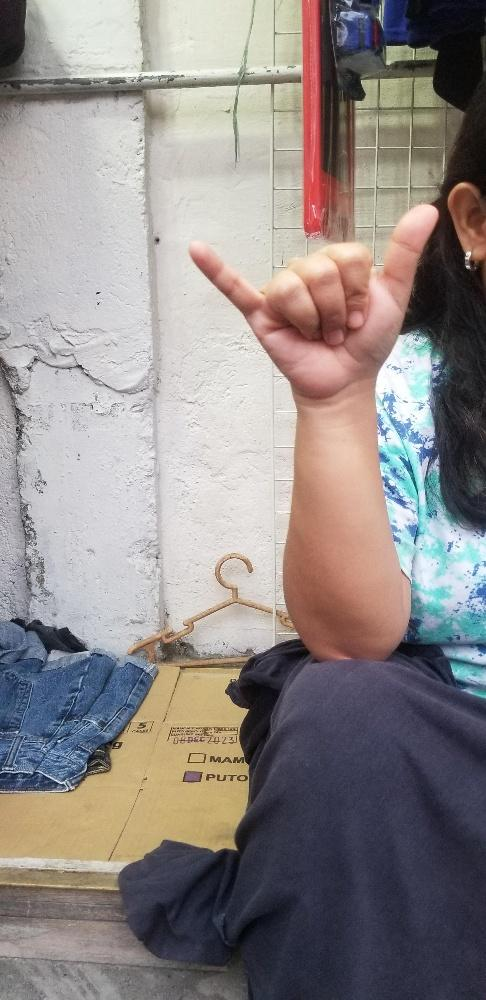y: (186, 201, 438, 398)
